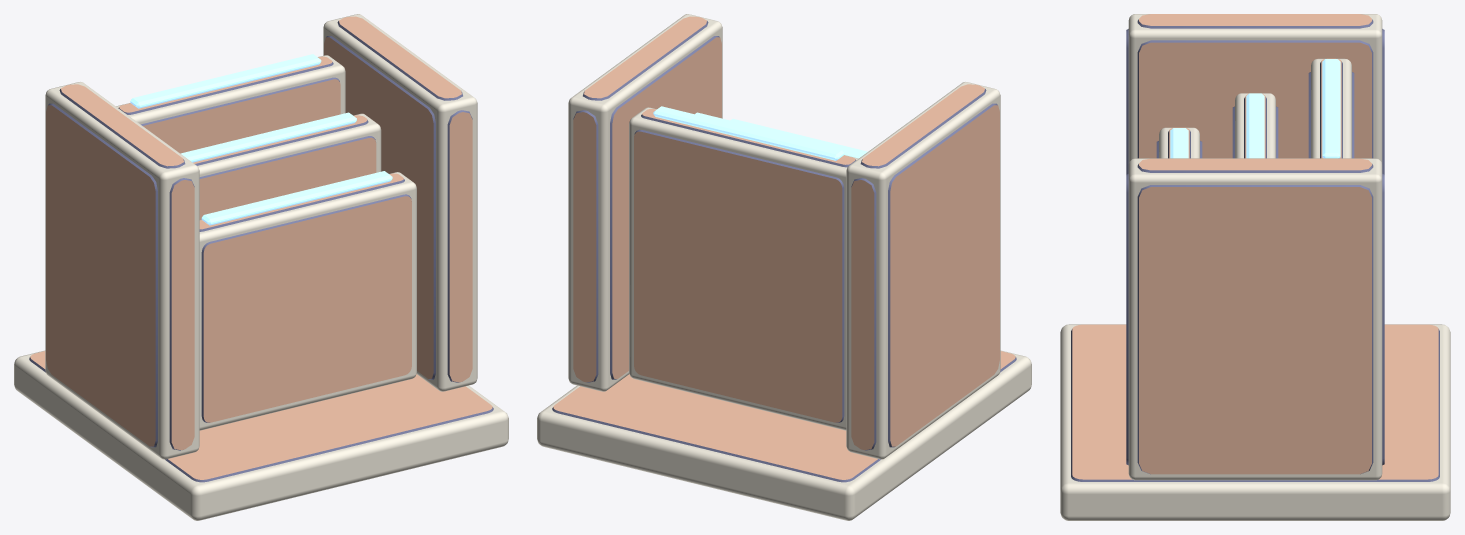
Rendered from R4X_WallDeployer.fbx.
The picture shows the model from 3 angles, left to right: view 1: azimuth 30°, elevation 25°; view 2: azimuth 150°, elevation 25°; view 3: azimuth 270°, elevation 25°; orthographic projection. The views are drawn at different scales.
Parts seen in each view (by area): view 1: R4X_WallDeployer_Body, R4X_WallDeployer_Panels; view 2: R4X_WallDeployer_Body, R4X_WallDeployer_Panels; view 3: R4X_WallDeployer_Body, R4X_WallDeployer_Panels.
Boxes of the visible parts, bbox=[...] form: R4X_WallDeployer_Body: bbox=[14, 14, 508, 520]; R4X_WallDeployer_Panels: bbox=[116, 54, 416, 430]; R4X_WallDeployer_Body: bbox=[537, 14, 1031, 520]; R4X_WallDeployer_Panels: bbox=[629, 106, 867, 430]; R4X_WallDeployer_Body: bbox=[1060, 14, 1450, 520]; R4X_WallDeployer_Panels: bbox=[1156, 58, 1354, 158].
Bounding box in the file's own units: 0.52 × 0.51 × 0.514.
